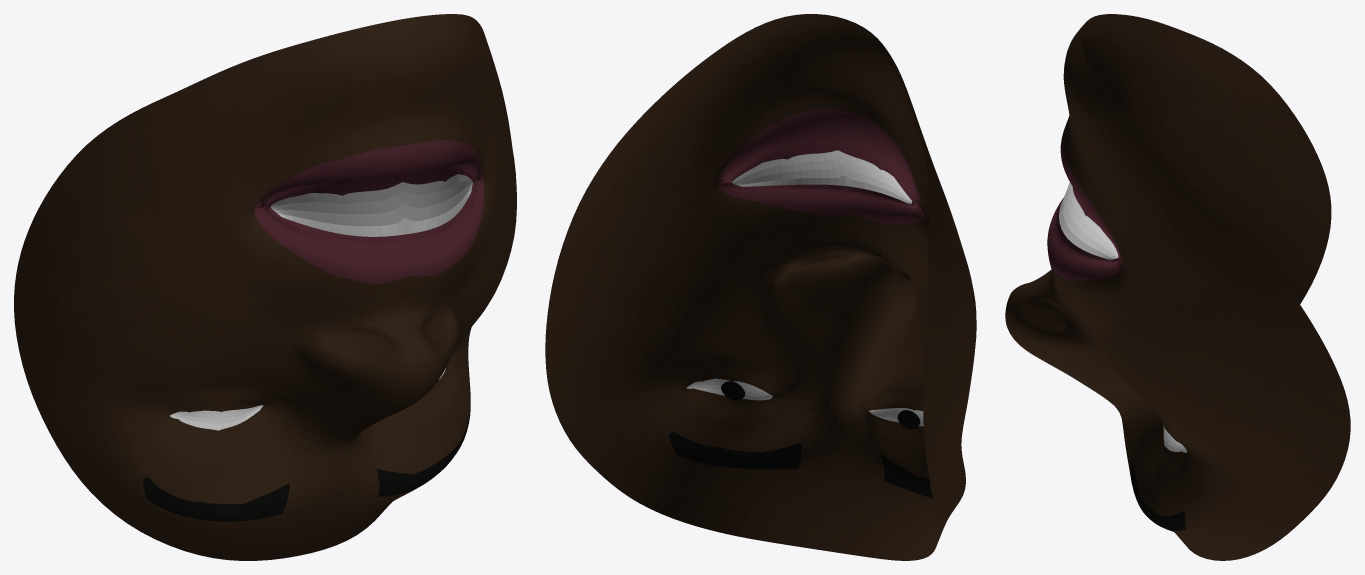
File: 68745309918__E5BA6014-0DE2-418E-AAB1-F19FE0220755.obj
The picture shows the model from 3 angles, left to right: view 1: azimuth 30°, elevation 25°; view 2: azimuth 150°, elevation 25°; view 3: azimuth 270°, elevation 25°; orthographic projection. The views are drawn at different scales.
Visible parts, largest first — view 1: face_mesh_subdivided; view 2: face_mesh_subdivided; view 3: face_mesh_subdivided.
Part boxes in pixels (left/top/right/bottom): face_mesh_subdivided: left=14, top=14, right=516, bottom=560; face_mesh_subdivided: left=545, top=14, right=976, bottom=560; face_mesh_subdivided: left=1005, top=14, right=1350, bottom=560.
Size of the model in its own units: 0.6707 by 0.8346 by 0.5156.
